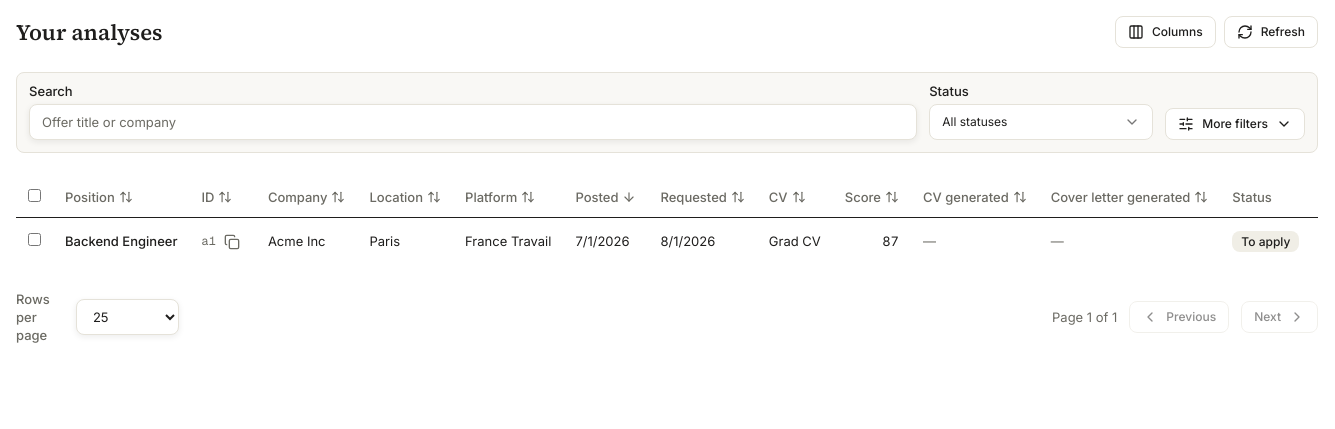
Test: AnalysesDashboardPage › shows every column visible by default, with Position/Status/Link absent from the Columns menu (issue #129)
expect the text "Backend Engineer" is shown: met, box x1=53 y1=217 x2=190 y2=266
expect the column heading "Position" is shown: met, box x1=53 y1=177 x2=190 y2=217
Click the button "Columns" at (1165, 32), box x1=1115 y1=16 x2=1216 y2=48
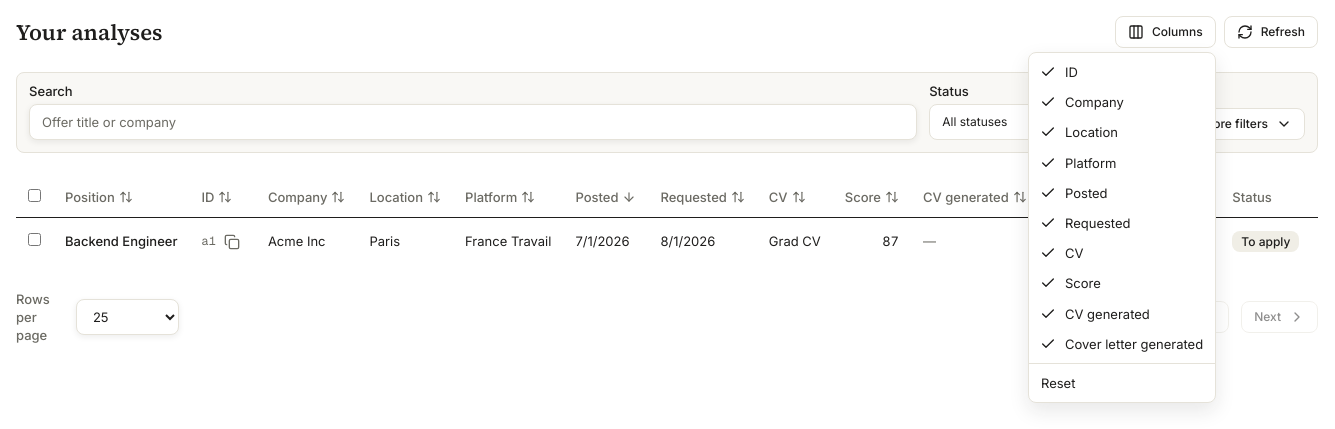
expect the menu item "ID" is shown: met, box x1=1040 y1=64 x2=1078 y2=80
expect the menu item "Company" is shown: met, box x1=1040 y1=94 x2=1124 y2=110
expect the menu item "Location" is shown: met, box x1=1040 y1=124 x2=1118 y2=140
